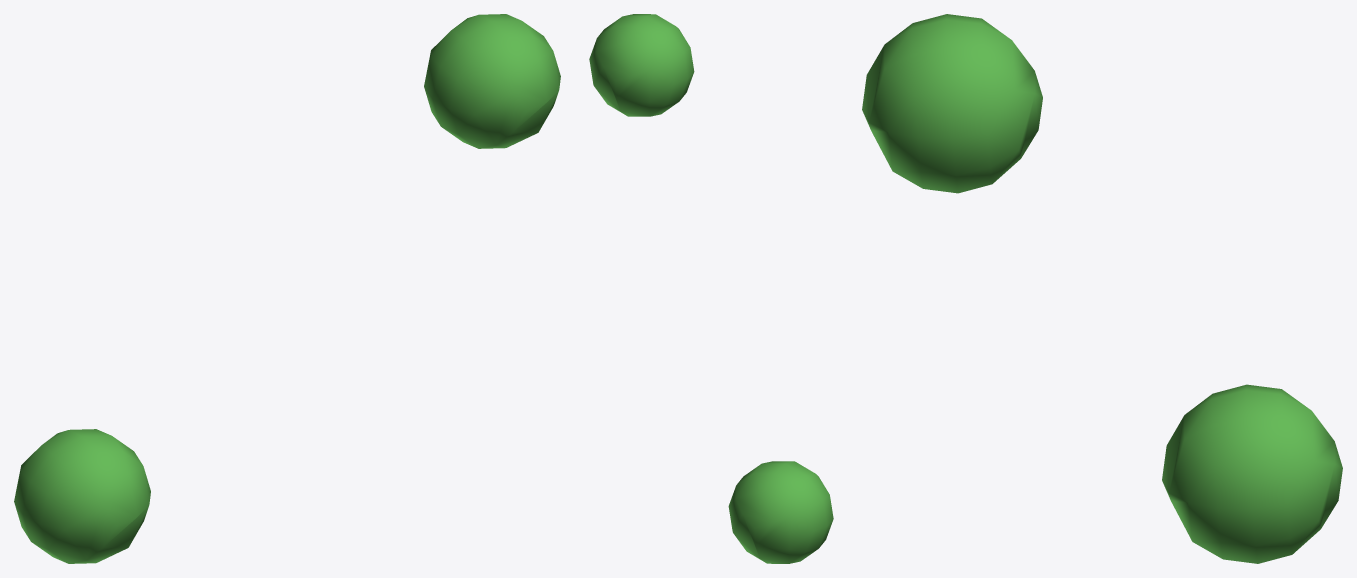
File: linfatico-inferior-epigastric-nodes-r.glb
3 renders of one model, left to right at view 1: azimuth 30°, elevation 25°; view 2: azimuth 150°, elevation 25°; view 3: azimuth 270°, elevation 25°, orthographic. The views are drawn at different scales.
Parts seen in each view (by area): view 1: Inferior epigastric nodes.r; view 2: Inferior epigastric nodes.r; view 3: Inferior epigastric nodes.r.
Boxes of the visible parts, x1,y1,x2,y2 form: Inferior epigastric nodes.r: (14,14,560,563); Inferior epigastric nodes.r: (589,14,833,563); Inferior epigastric nodes.r: (862,14,1342,563).
Bounding box in the file's own units: 0.00902 × 0.0114 × 0.00689.
